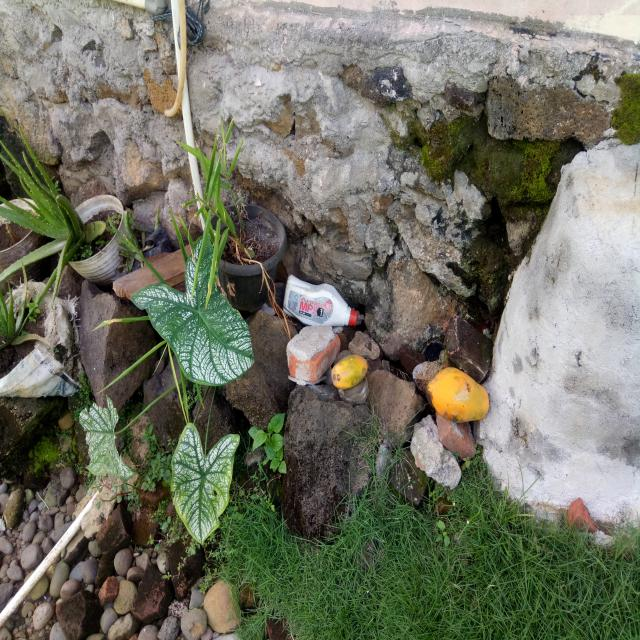Pepaya rippen: (423, 361, 495, 426), (326, 349, 376, 397)
